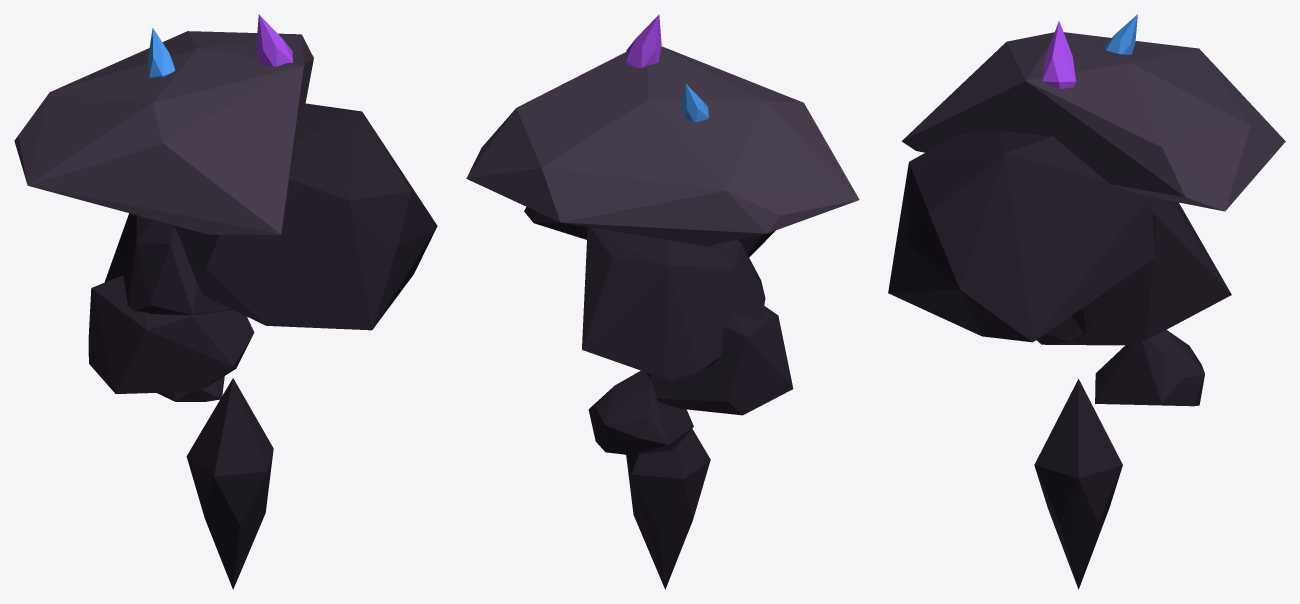
File: FloatingRock.obj
3 renders of one model, left to right at view 1: azimuth 30°, elevation 25°; view 2: azimuth 150°, elevation 25°; view 3: azimuth 270°, elevation 25°, orthographic. The views are drawn at different scales.
Parts seen in each view (by area): view 1: FloatingRock; view 2: FloatingRock; view 3: FloatingRock.
Boxes of the visible parts, x1,y1,x2,y2 form: FloatingRock: (14,14,437,589); FloatingRock: (466,14,859,589); FloatingRock: (888,14,1285,589).
Size of the model in its own units: 1.1 by 1.64 by 1.02.
